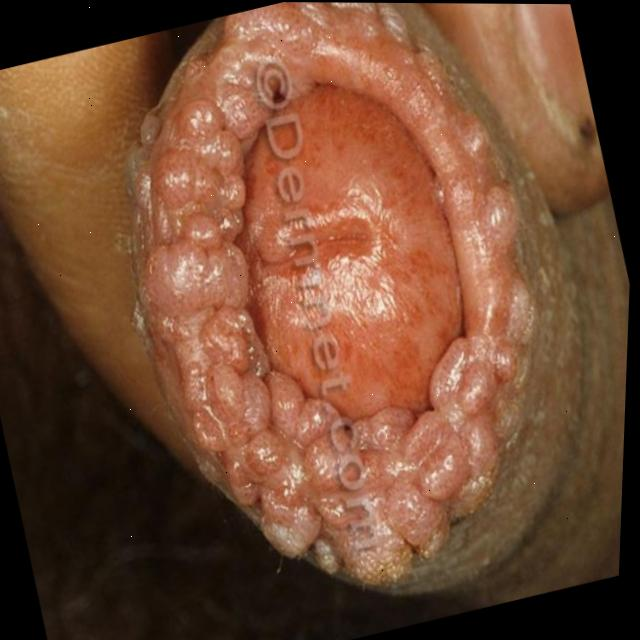Shingles: (83, 1, 599, 616)
